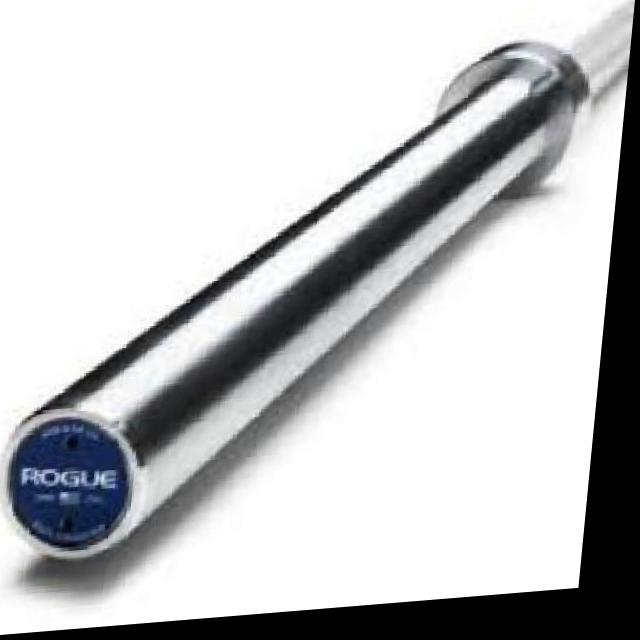barbell: (1, 41, 603, 594)
